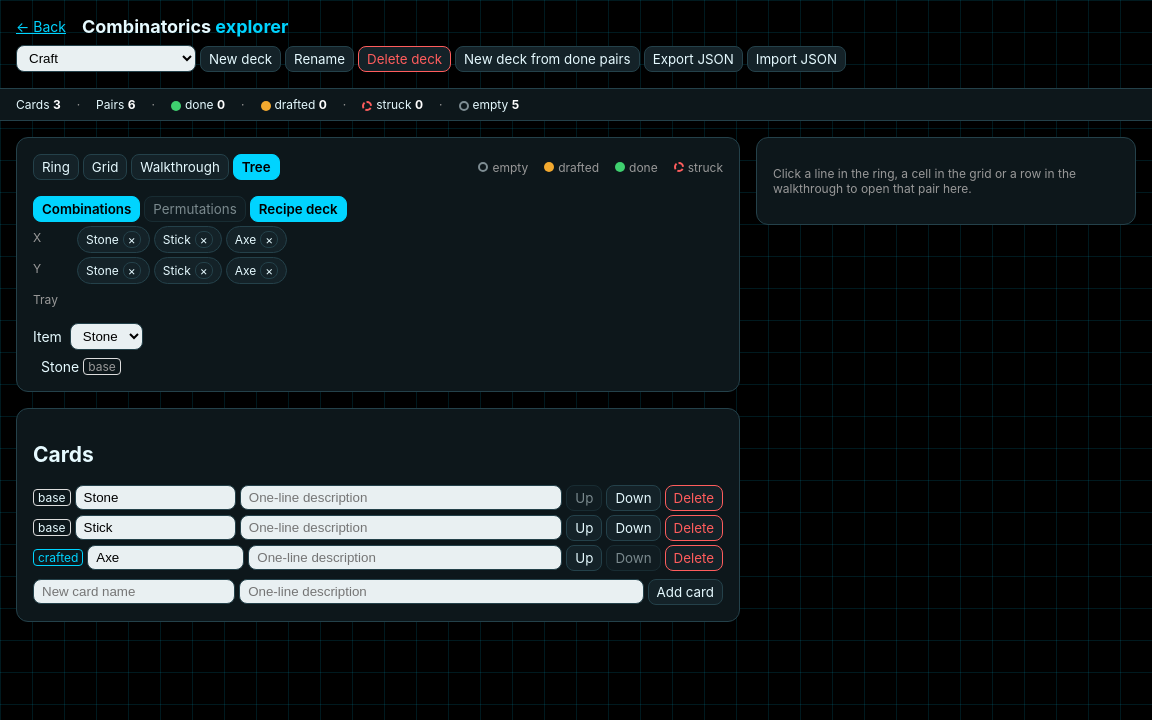
Test: CombinationsPage tree tab › opens the pair of a clicked recipe row in the pair panel
Select "Axe" in the dropdown labelled "Item" at (106, 336), box [70,323,143,350]
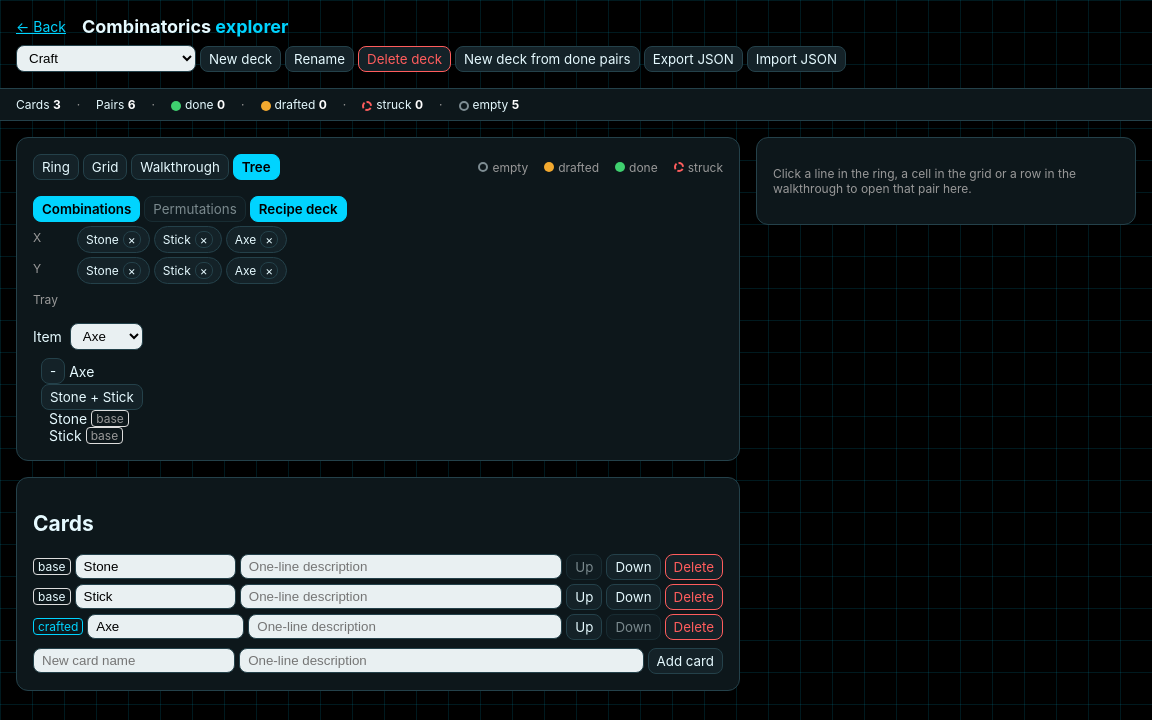
Click the button "Stone + Stick" at (92, 397), box [41,384,143,410]
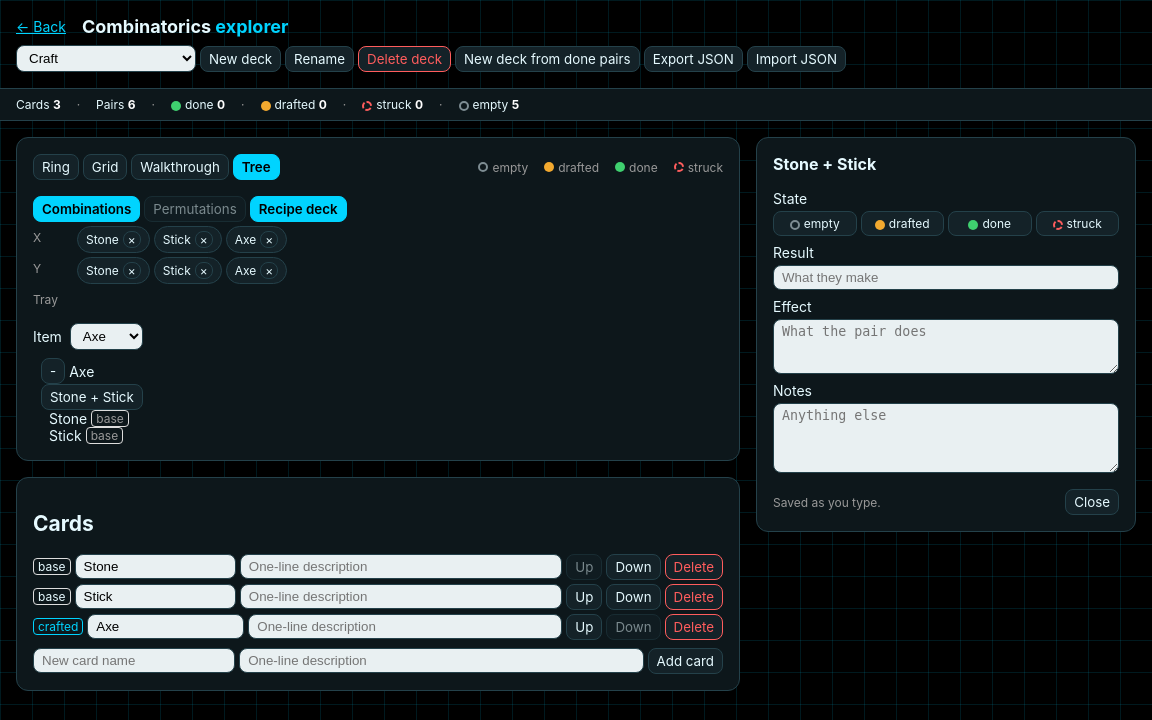
Result: the heading "Stone + Stick" is shown at [773,154,876,174]
